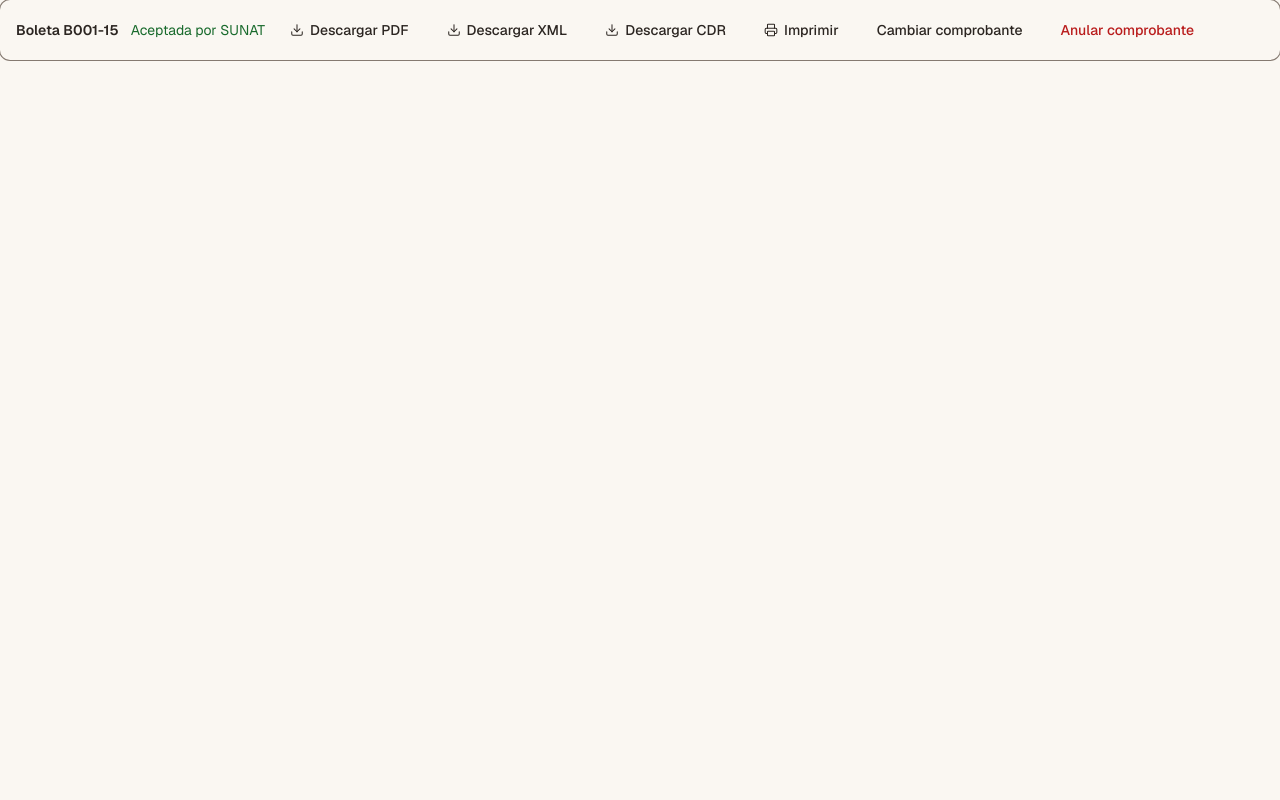
Scenario: Anular un comprobante según su estado › si otra persona lo anuló mientras tanto, lo dice con palabras simples
Click the button "Anular comprobante" at (1127, 30), box [1048,12,1207,48]
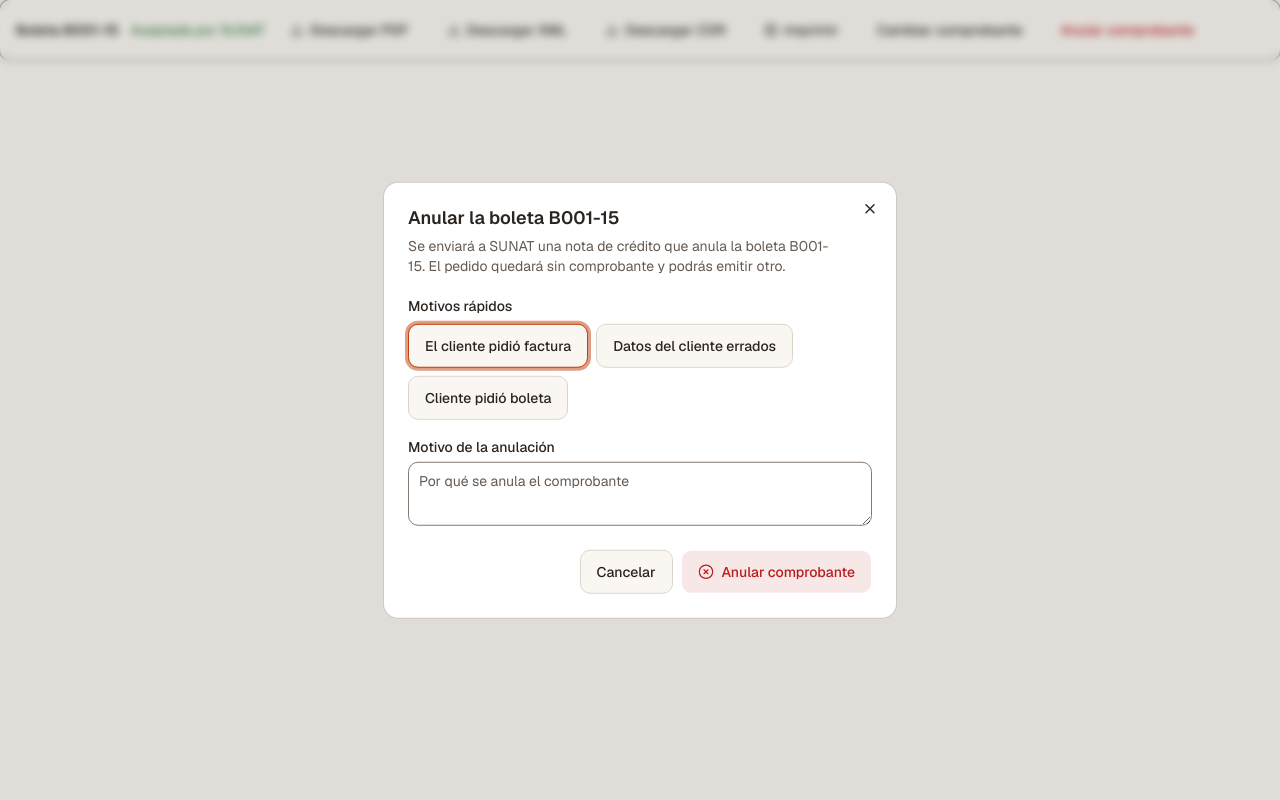
Click the button "Cliente pidió boleta" at (488, 397), box [408,375,568,419]
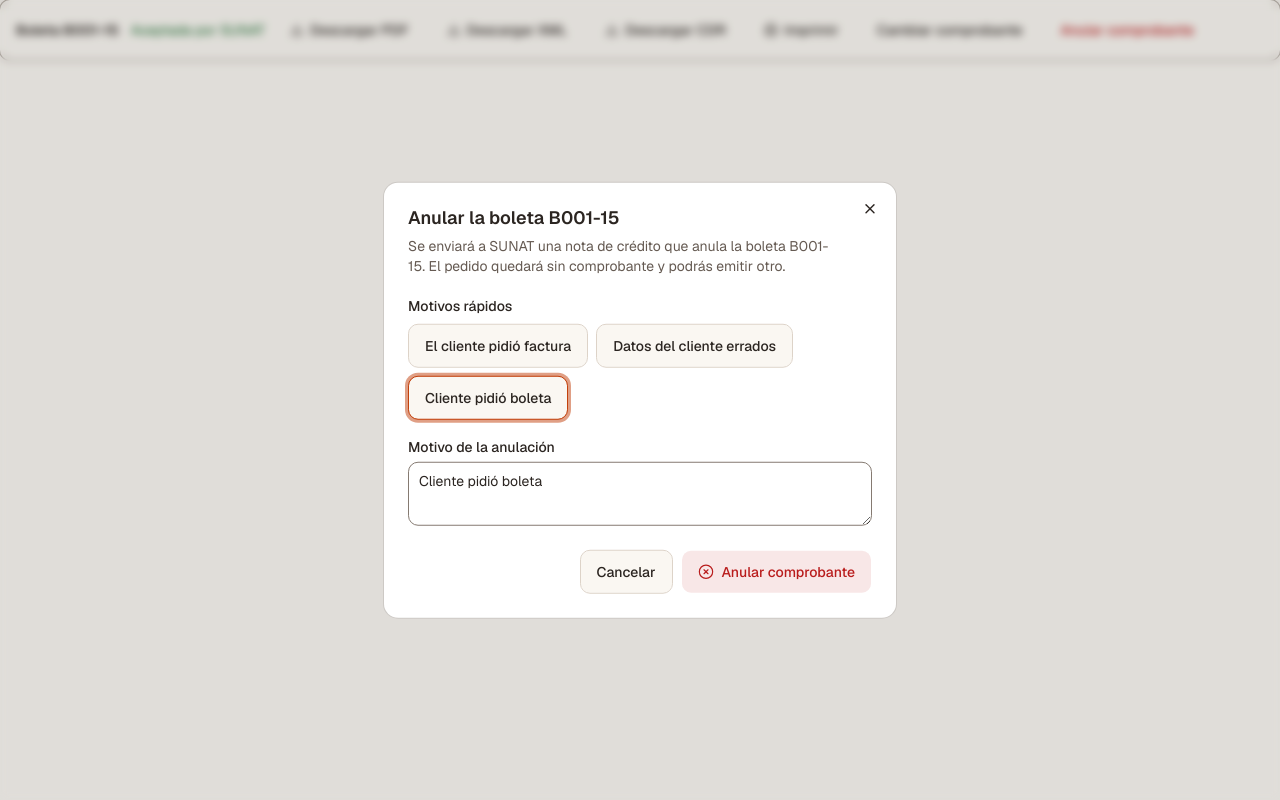
Click the button "Anular comprobante" at (776, 571), box [680,549,872,593]
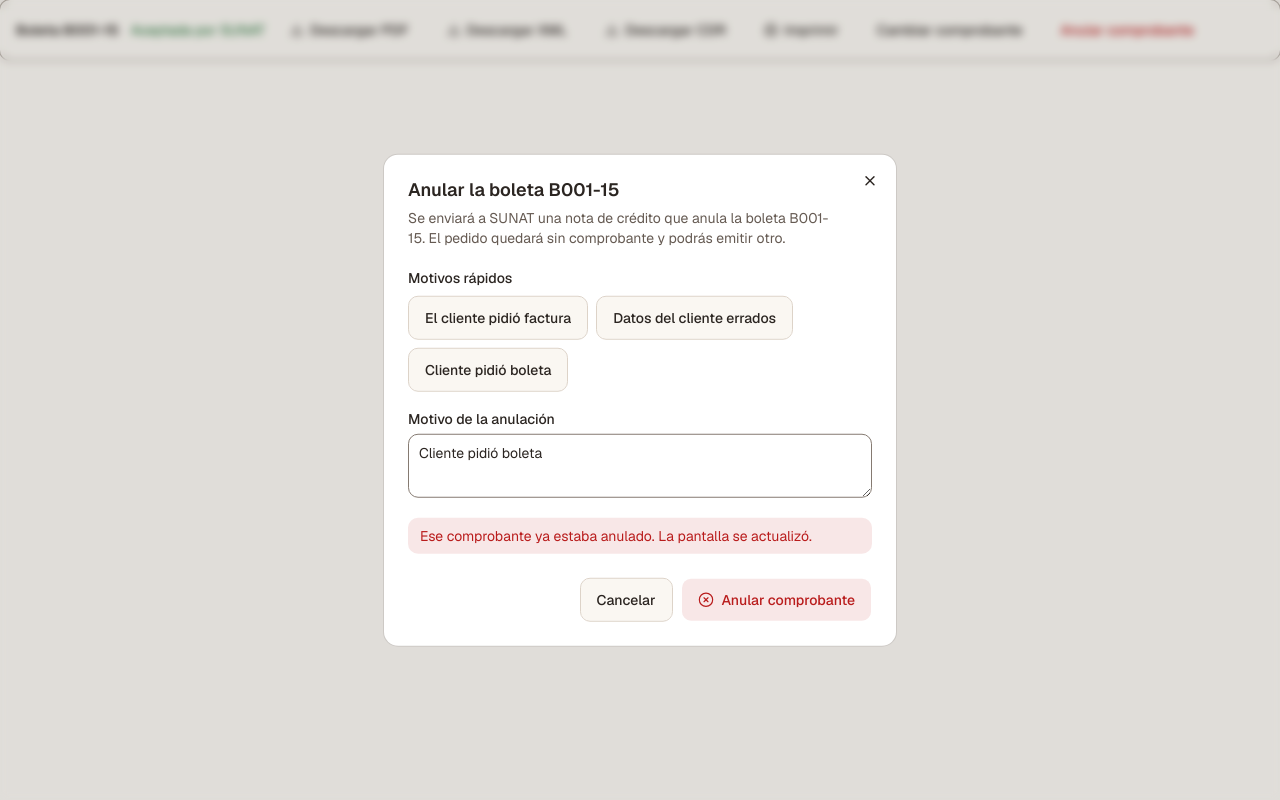
Result: the text "Ese comprobante ya estaba anulado. La pantalla se actualizó." is shown at [408,517,872,553]
